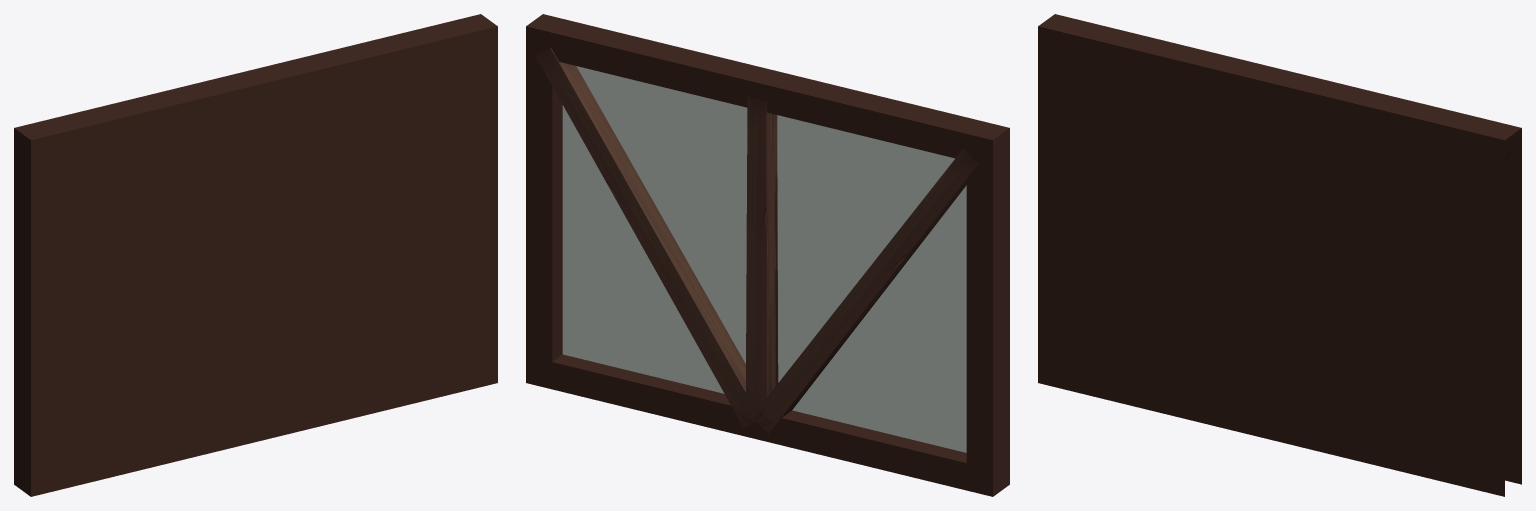
File: HouseWall.fbx
3 renders of one model, left to right at view 1: azimuth 30°, elevation 25°; view 2: azimuth 150°, elevation 25°; view 3: azimuth 330°, elevation 25°, orthographic.
Visible parts, largest first — view 1: Cube.007; view 2: Cube.007; view 3: Cube.007.
Part boxes in pixels (x1,y1,x2,y2): Cube.007: (14, 14, 497, 496); Cube.007: (526, 14, 1009, 496); Cube.007: (1038, 14, 1521, 496).
Size of the model in its own units: 188080 by 137317 by 12686.
